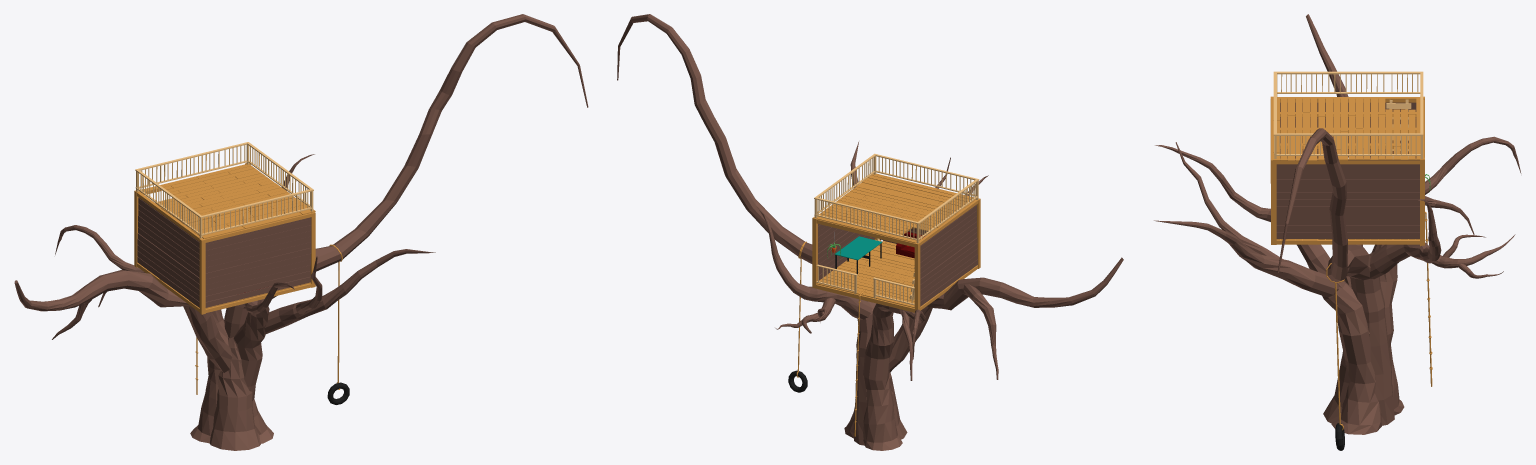
File: treehousevortex.obj
The picture shows the model from 3 angles, left to right: view 1: azimuth 30°, elevation 25°; view 2: azimuth 150°, elevation 25°; view 3: azimuth 270°, elevation 25°; orthographic projection. The views are drawn at different scales.
Visible parts, largest first — view 1: mat20, mat19, mat18; view 2: mat20, mat19, mat18, mat11; view 3: mat20, mat19, mat18.
Boxes of the visible parts, bbox=[...] form: mat20: bbox=[14, 14, 588, 450]; mat19: bbox=[134, 163, 342, 394]; mat18: bbox=[135, 142, 313, 238]; mat20: bbox=[617, 14, 1123, 450]; mat19: bbox=[796, 173, 980, 436]; mat18: bbox=[814, 153, 979, 305]; mat11: bbox=[834, 236, 882, 260]; mat20: bbox=[1154, 14, 1521, 434]; mat19: bbox=[1270, 96, 1432, 430]; mat18: bbox=[1273, 71, 1423, 158].
Bounding box in the file's own units: 4.68 × 3 × 2.34.
